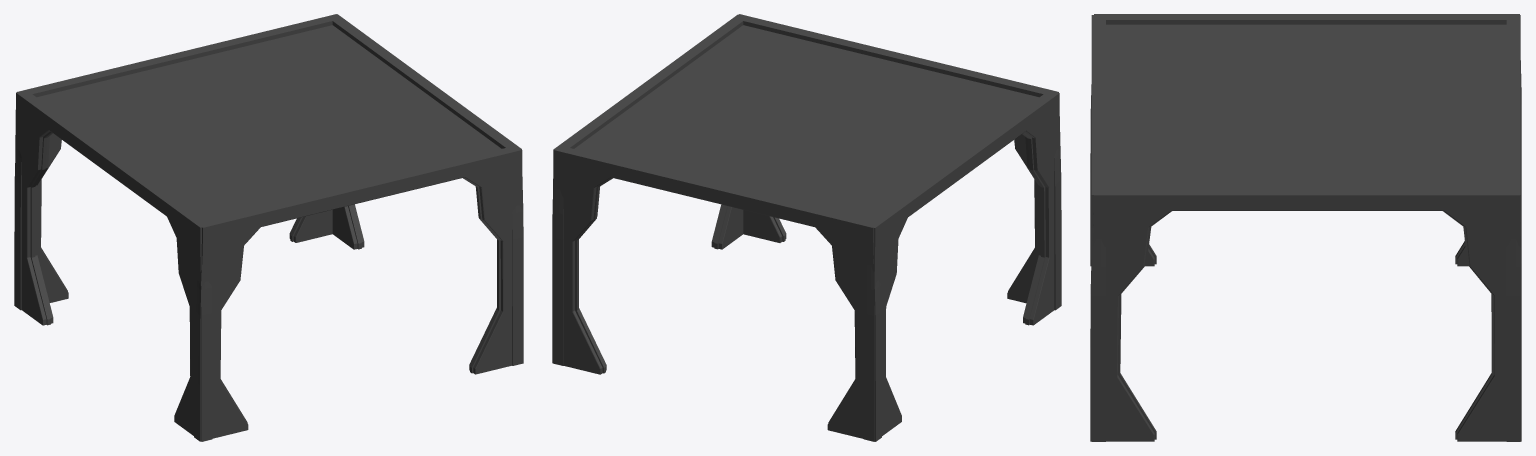
File: Hallway_Module_Cross_01.glb
The picture shows the model from 3 angles, left to right: view 1: azimuth 30°, elevation 25°; view 2: azimuth 150°, elevation 25°; view 3: azimuth 270°, elevation 25°; orthographic projection. The views are drawn at different scales.
Visible parts, largest first — view 1: Hallway_Module_Cross_01; view 2: Hallway_Module_Cross_01; view 3: Hallway_Module_Cross_01.
Part boxes in pixels (left/top/right/bottom): Hallway_Module_Cross_01: left=14, top=14, right=523, bottom=441; Hallway_Module_Cross_01: left=552, top=14, right=1061, bottom=441; Hallway_Module_Cross_01: left=1090, top=14, right=1521, bottom=441.
Size of what is drawn, in the model's own units: 6.03 by 3.8 by 6.03.
2 materials, 2 textured.
